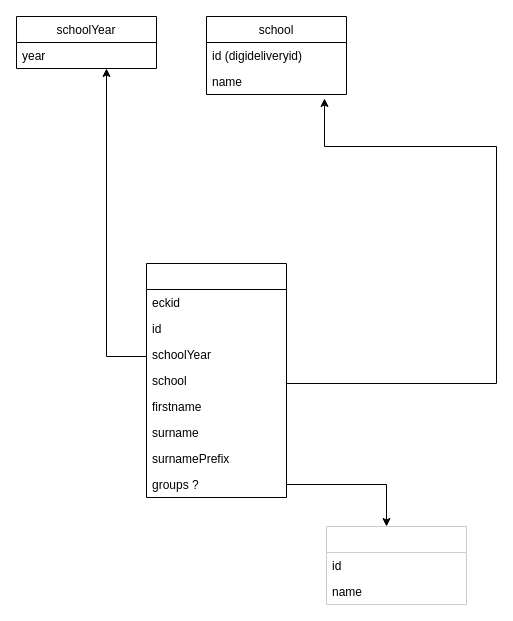
The diagram is 513 pixels wide and 621 high, and some of its shapes have lost their labels. The box of each missing label's shape, as (x1, y1, x2, y2) in pixels:
groupReference: (326, 526, 466, 604)
Teacher: (146, 262, 286, 498)
